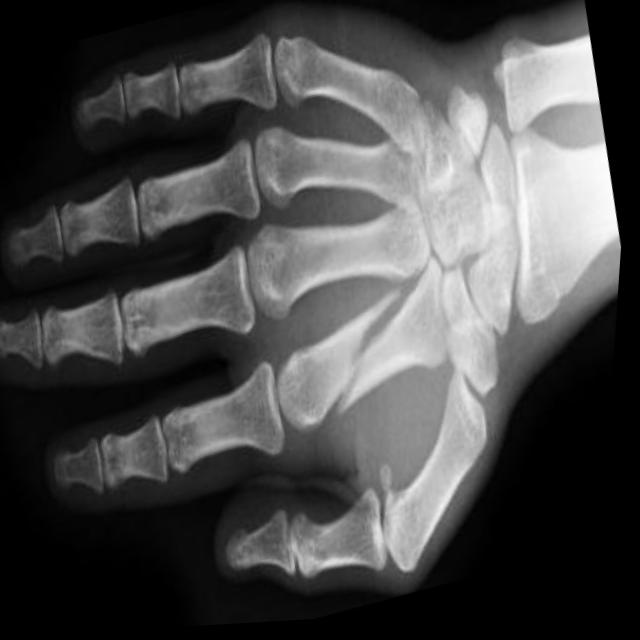fracture: (299, 257, 450, 430)
